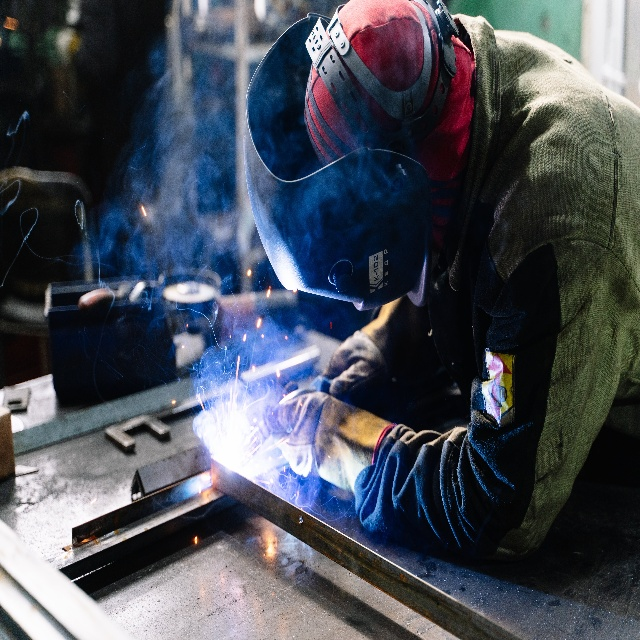Guantes: (271, 385, 395, 494), (322, 295, 402, 396)
